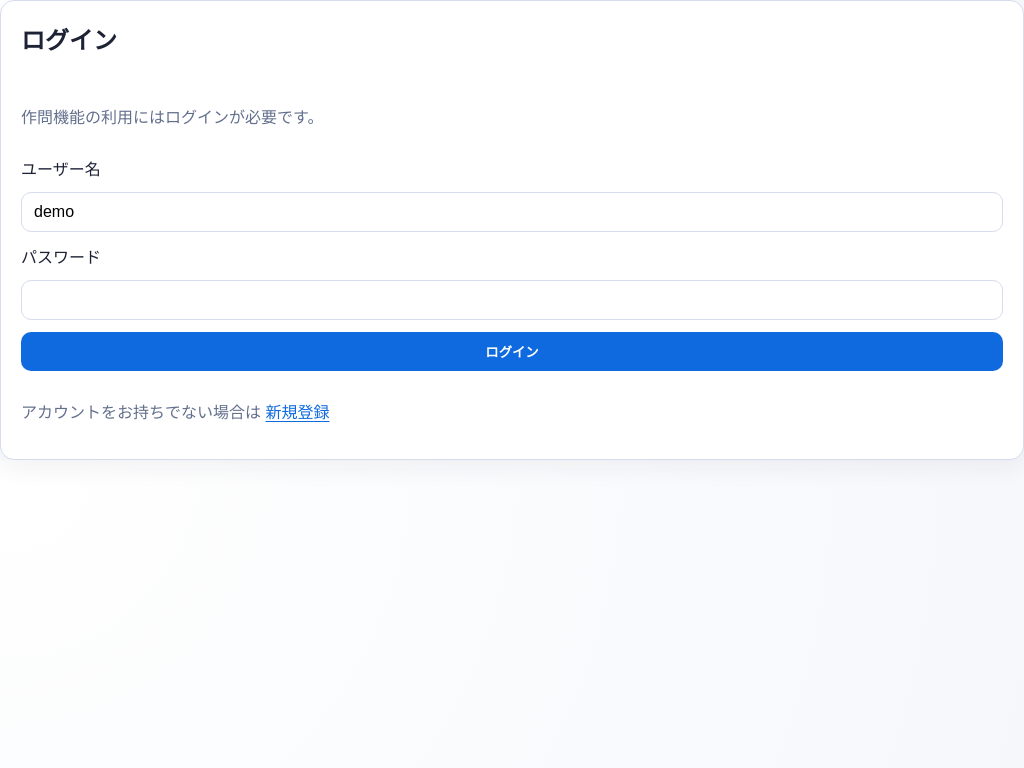
LoginForm › ログイン失敗時はエラーメッセージを表示して遷移しない
Type "demo-pass" into the password field labelled "パスワード" at (512, 300), box [21, 280, 1003, 320]
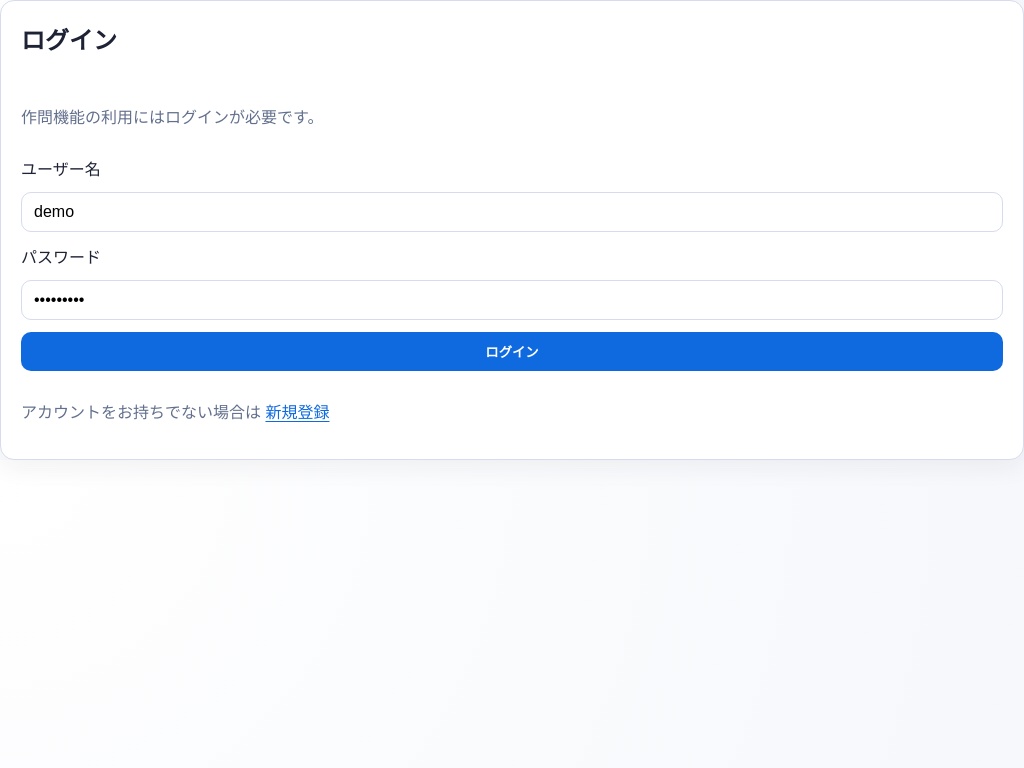
Click the button "ログイン" at (512, 351), box [21, 332, 1003, 371]
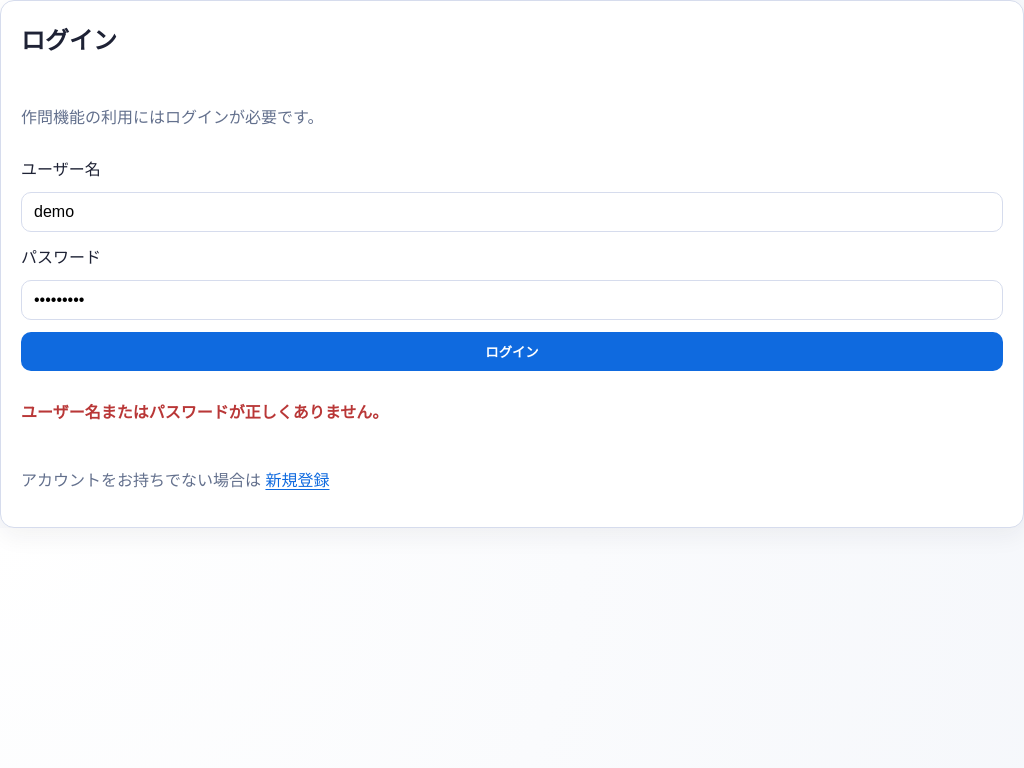
Expected: the text "ユーザー名またはパスワードが正しくありません。" is shown, [21, 404, 388, 421]
